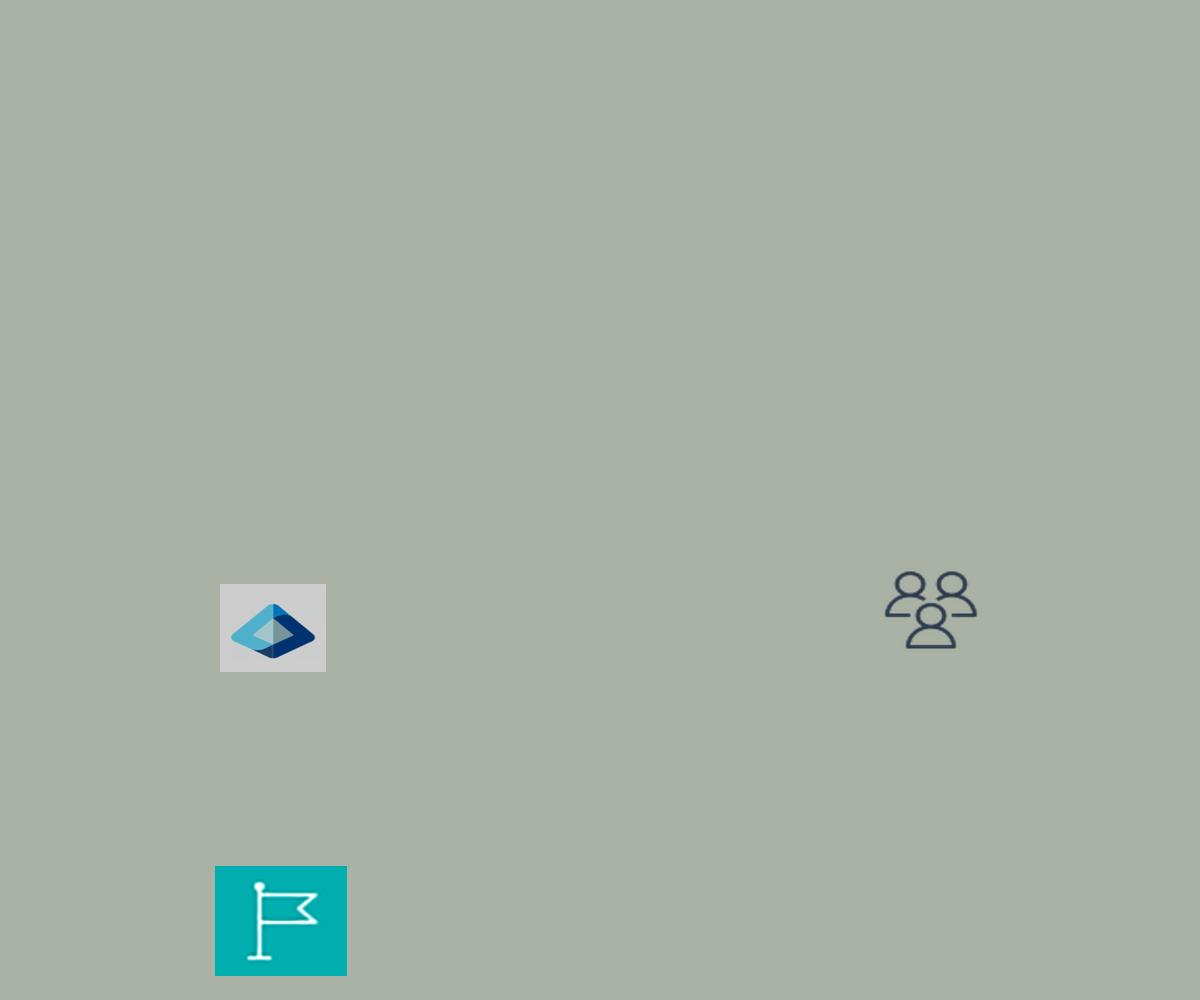AWS-Region: (215, 866, 347, 976)
AWS-Res_Users: (881, 568, 981, 652)
Azure_microsoft_entra: (220, 584, 326, 672)
